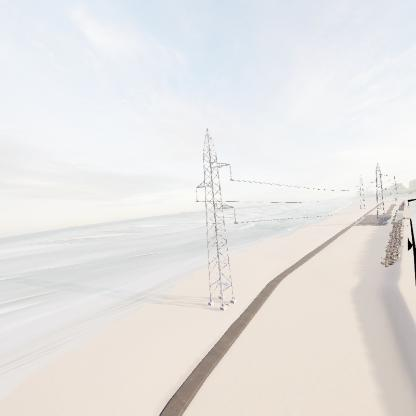tower: (187, 125, 242, 313)
